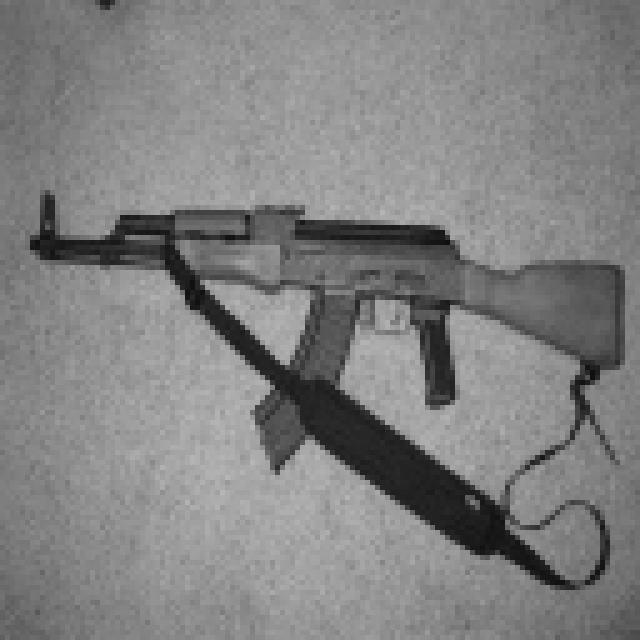Rifle: (10, 82, 640, 640)
